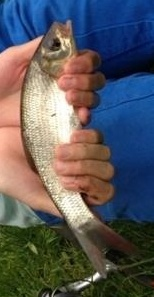Leuciscus idus: (20, 20, 134, 277)
